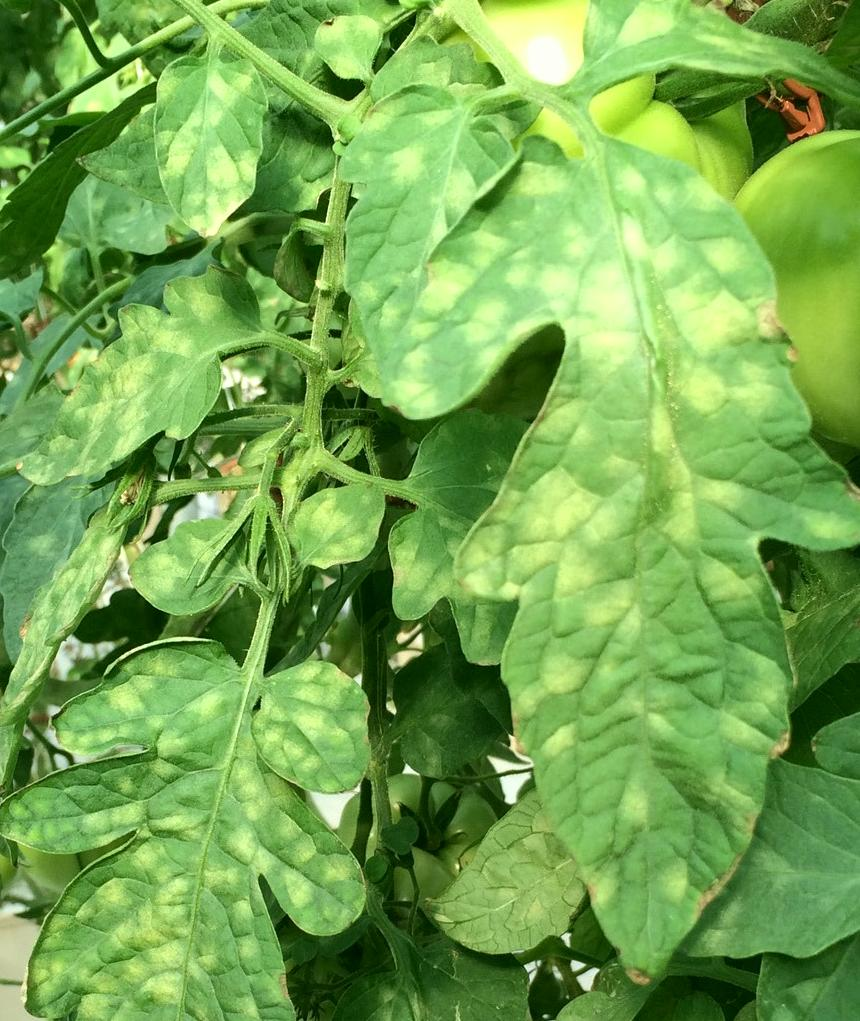Tomato mold leaf: (413, 143, 810, 976), (0, 635, 367, 1021), (12, 269, 301, 496), (338, 67, 531, 296), (432, 754, 599, 961), (583, 0, 830, 99), (149, 51, 264, 255), (283, 483, 394, 582), (124, 515, 230, 616)
